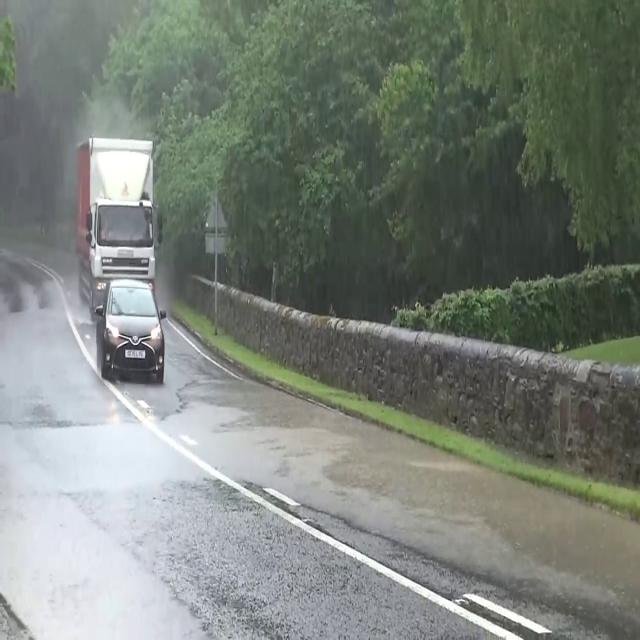license-plate-annotation: (124, 344, 148, 361)
